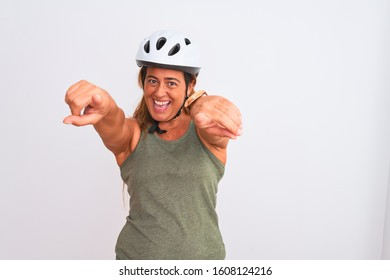helmet: (136, 30, 203, 122)
